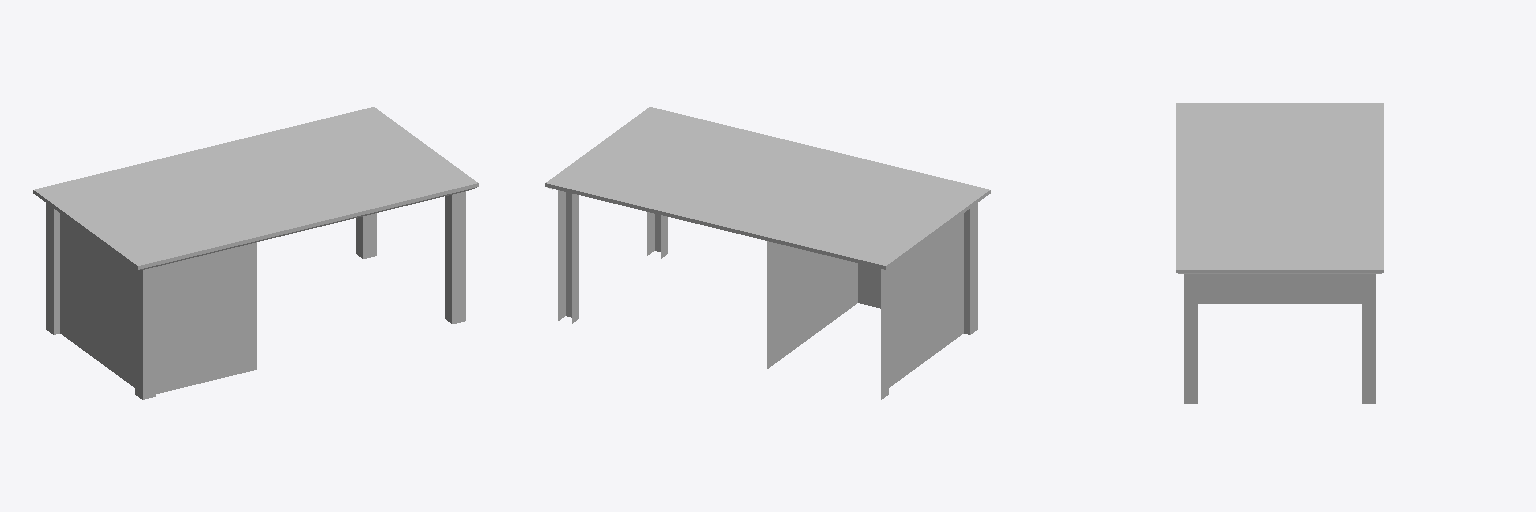
The model's file is scaled desk.obj.
The picture shows the model from 3 angles: view 1: azimuth 30°, elevation 25°; view 2: azimuth 150°, elevation 25°; view 3: azimuth 270°, elevation 25°; orthographic projection.
Visible parts, largest first — view 1: WHY1:group WHY1:pasted__pPlane1 WHY1:polySurface2 WHY1:polySurfa, WHY1:group WHY1:pasted__pPlane1 WHY1:polySurface3 WHY1:polySurfa; view 2: WHY1:group WHY1:pasted__pPlane1 WHY1:polySurface2 WHY1:polySurfa, WHY1:group WHY1:pasted__pPlane1 WHY1:polySurface3 WHY1:polySurfa; view 3: WHY1:group WHY1:pasted__pPlane1 WHY1:polySurface2 WHY1:polySurfa, WHY1:group WHY1:pasted__pPlane1 WHY1:polySurface3 WHY1:polySurfa.
Part boxes in pixels (left/top/right/bottom): WHY1:group WHY1:pasted__pPlane1 WHY1:polySurface2 WHY1:polySurfa: left=34, top=107, right=477, bottom=399; WHY1:group WHY1:pasted__pPlane1 WHY1:polySurface3 WHY1:polySurfa: left=33, top=183, right=478, bottom=399; WHY1:group WHY1:pasted__pPlane1 WHY1:polySurface2 WHY1:polySurfa: left=546, top=107, right=989, bottom=368; WHY1:group WHY1:pasted__pPlane1 WHY1:polySurface3 WHY1:polySurfa: left=545, top=183, right=990, bottom=399; WHY1:group WHY1:pasted__pPlane1 WHY1:polySurface2 WHY1:polySurfa: left=1176, top=103, right=1383, bottom=403; WHY1:group WHY1:pasted__pPlane1 WHY1:polySurface3 WHY1:polySurfa: left=1176, top=270, right=1383, bottom=272.
Size of the model in its own units: 166 by 64.65 by 88.02.